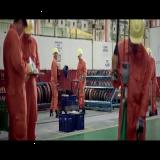Helmet: (128, 20, 144, 44), (24, 18, 35, 35), (77, 48, 83, 56), (146, 48, 152, 56), (52, 48, 58, 54)
